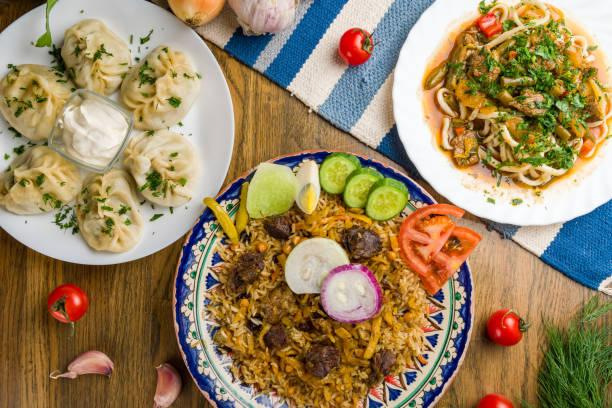Braised Crucian Carp: (168, 150, 459, 406), (2, 0, 236, 267), (392, 2, 612, 230)
